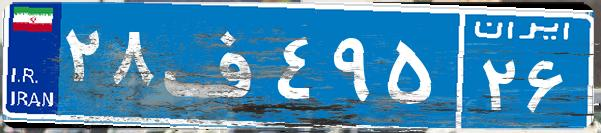2: (57, 26, 110, 107), (475, 38, 525, 113)
4: (273, 28, 330, 110)
5: (385, 28, 445, 110)
6: (525, 38, 570, 115)
8: (110, 28, 158, 105)
9: (330, 28, 385, 110)
ف: (158, 15, 273, 115)
